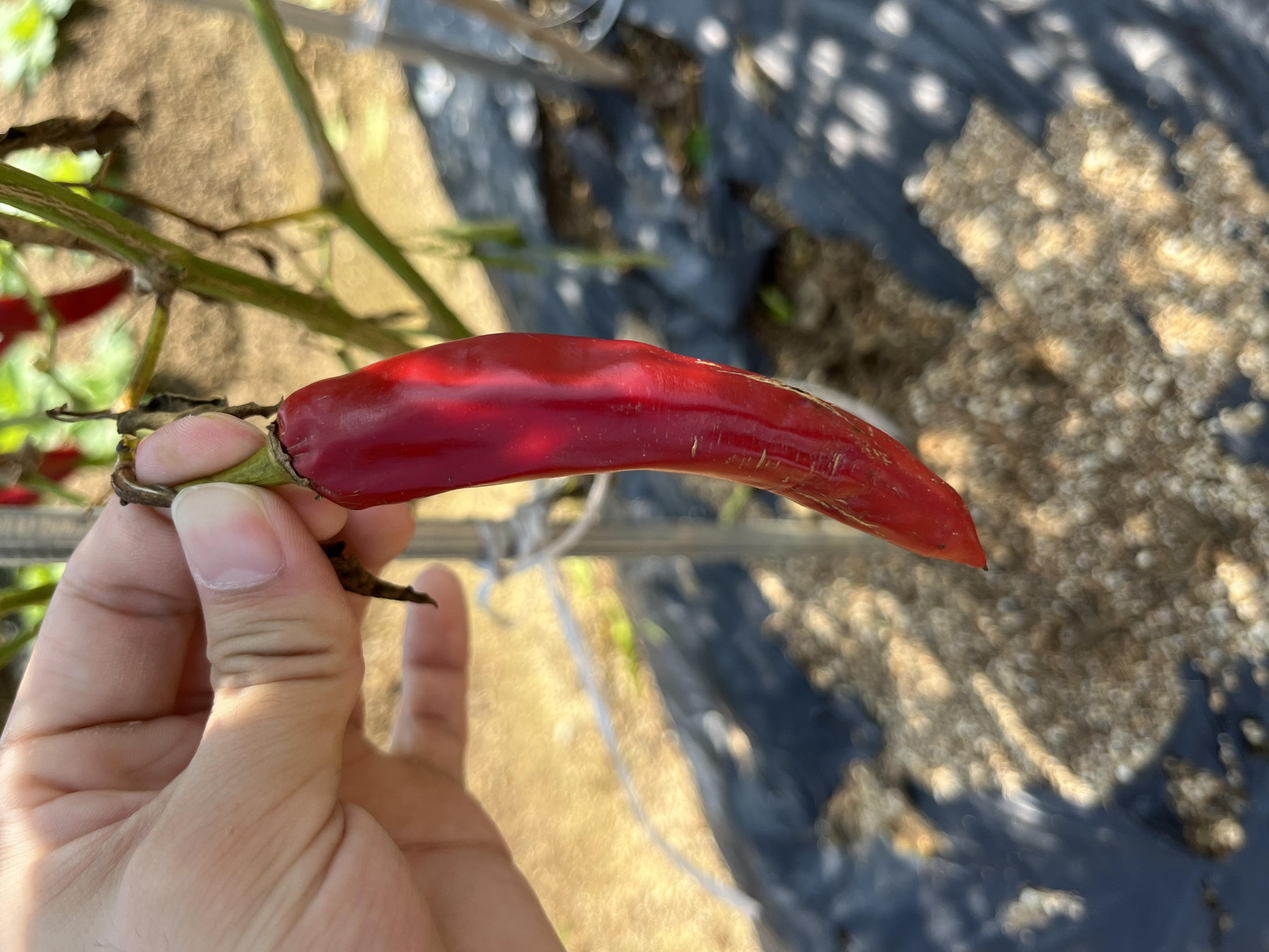Buah Cabai Sehat: (516, 197, 841, 741)
